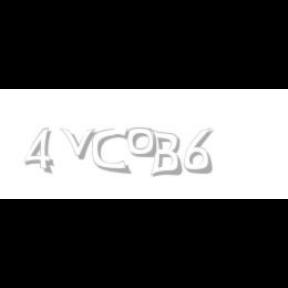4: (23, 128, 54, 174)
6: (184, 128, 212, 176)
B: (148, 128, 182, 178)
C: (92, 128, 130, 174)
o: (128, 128, 156, 158)
v: (60, 128, 100, 160)
